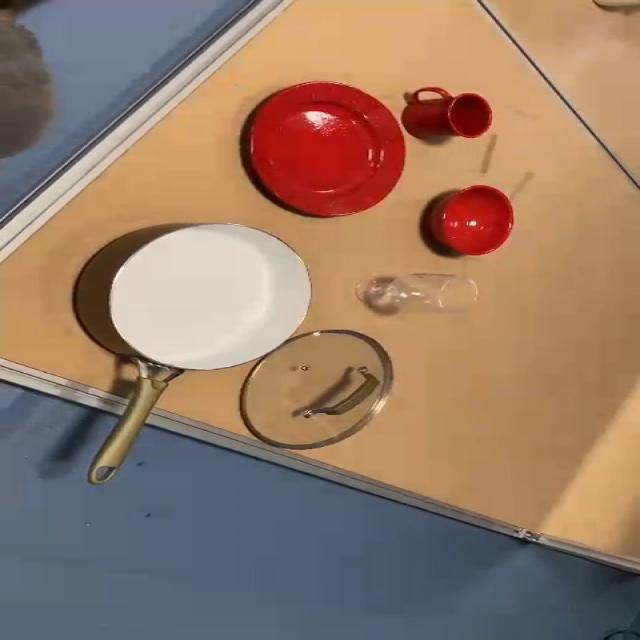Bowl: (430, 185, 527, 258)
Glass: (352, 268, 496, 321)
Plate: (248, 80, 410, 221)
cup: (393, 90, 500, 136)
pot: (70, 220, 307, 486)
